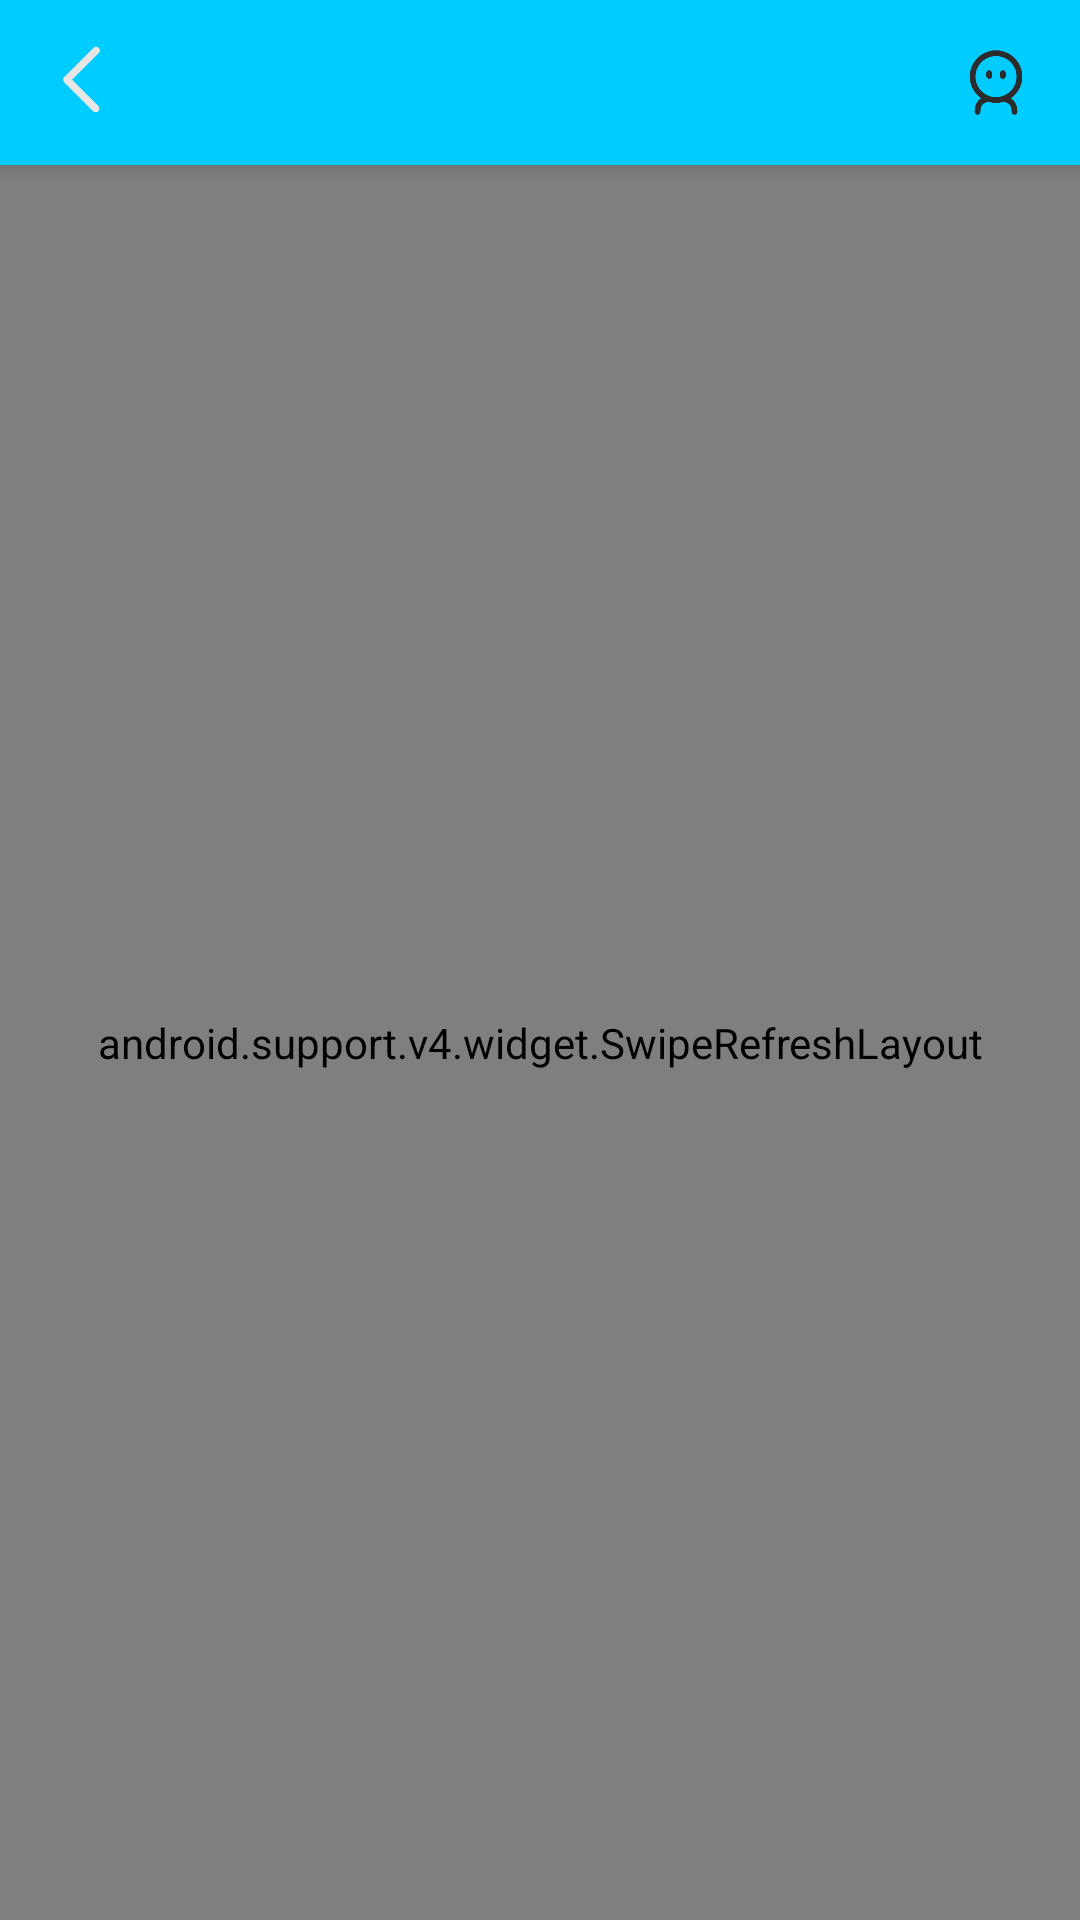

Icon click points for this 1080*1920 phone screenshot, format (x,y):
back: (81,79)
